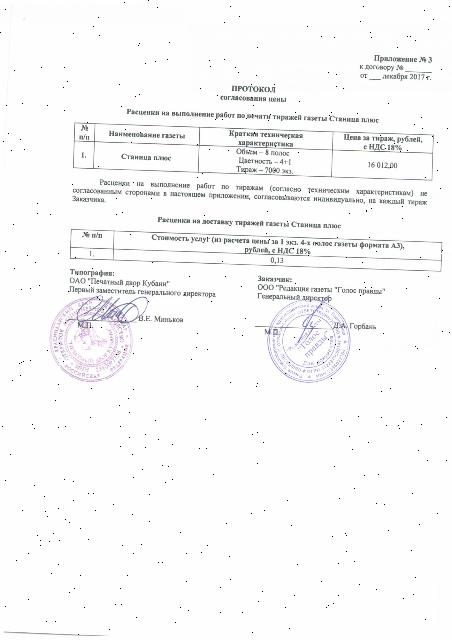stamp: (266, 296, 350, 382), (54, 298, 131, 384)
